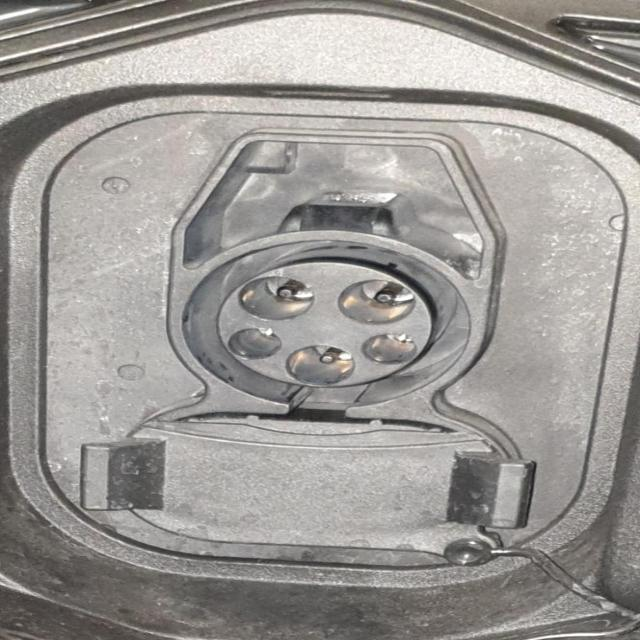Type 1: (150, 221, 493, 425)
